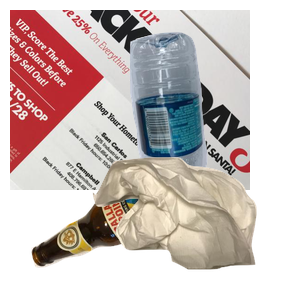glass: (29, 150, 238, 300)
paper: (10, 10, 250, 190)
plastic: (127, 29, 300, 209)
trash: (90, 155, 300, 300)
